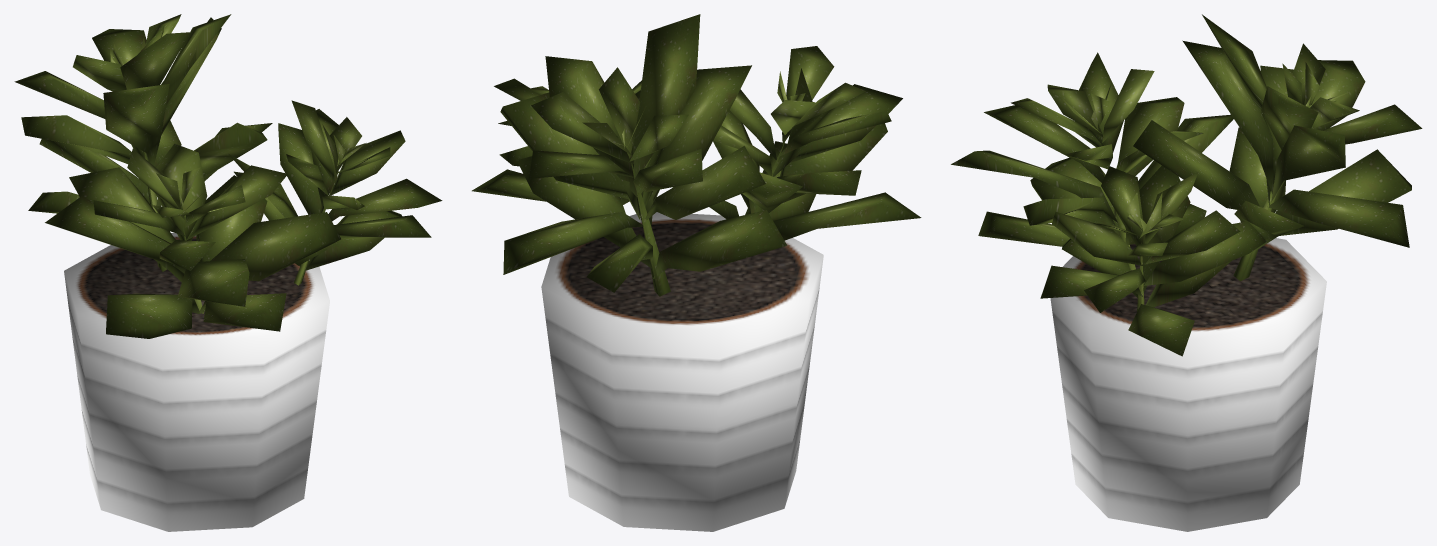
The model's file is pot_plant.fbx.
3 renders of one model, left to right at view 1: azimuth 30°, elevation 25°; view 2: azimuth 150°, elevation 25°; view 3: azimuth 270°, elevation 25°, orthographic. The views are drawn at different scales.
Visible parts, largest first — view 1: plant, pot; view 2: pot, plant; view 3: plant, pot.
Boxes of the visible parts, <box> form: plant: <box>14,14,442,338</box>; pot: <box>64,233,329,531</box>; pot: <box>541,212,823,531</box>; plant: <box>472,14,921,296</box>; plant: <box>951,14,1422,356</box>; pot: <box>1050,238,1326,531</box>.
Bounding box in the file's own units: 17.03 × 20.47 × 19.1.
